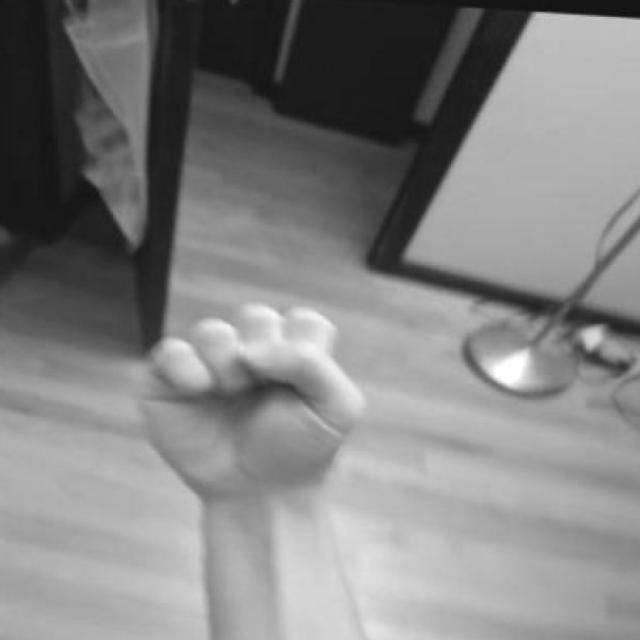S: (117, 284, 378, 523)
